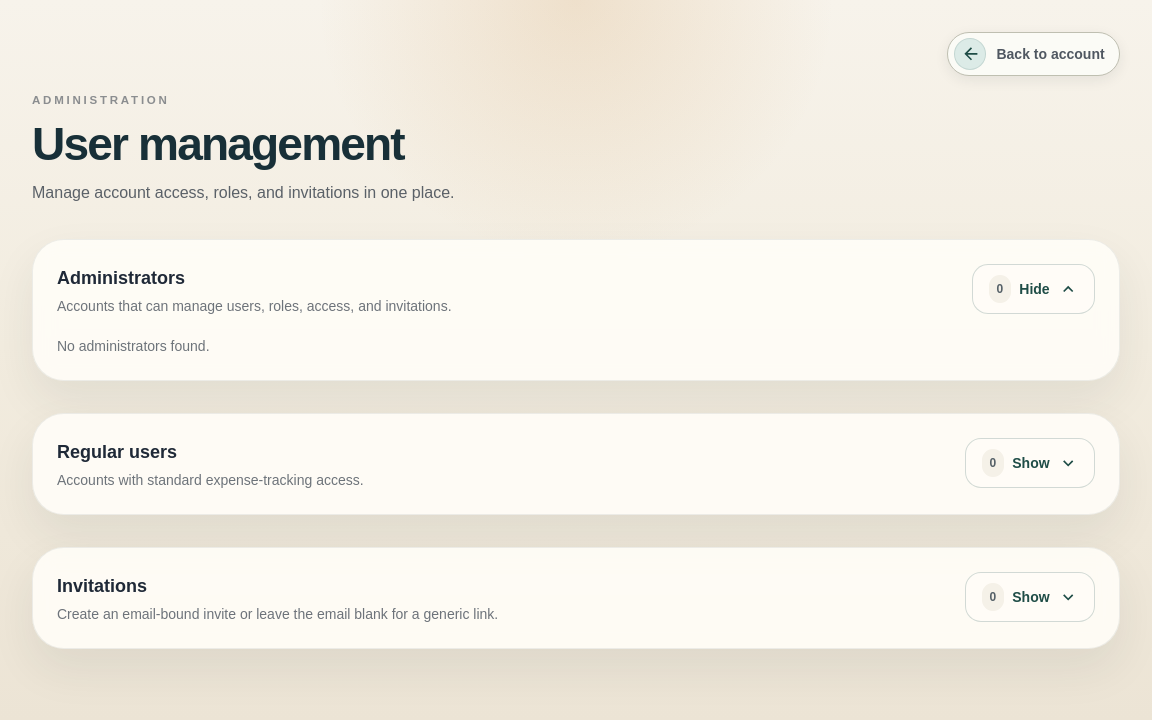
Test case: AdminUsers › renders empty states for null management collections
Expected: the text "No administrators found." is shown, [57, 338, 210, 354]
Click the button with aria-label "Show Regular users section". click: (1030, 463)
box: [965, 438, 1095, 488]
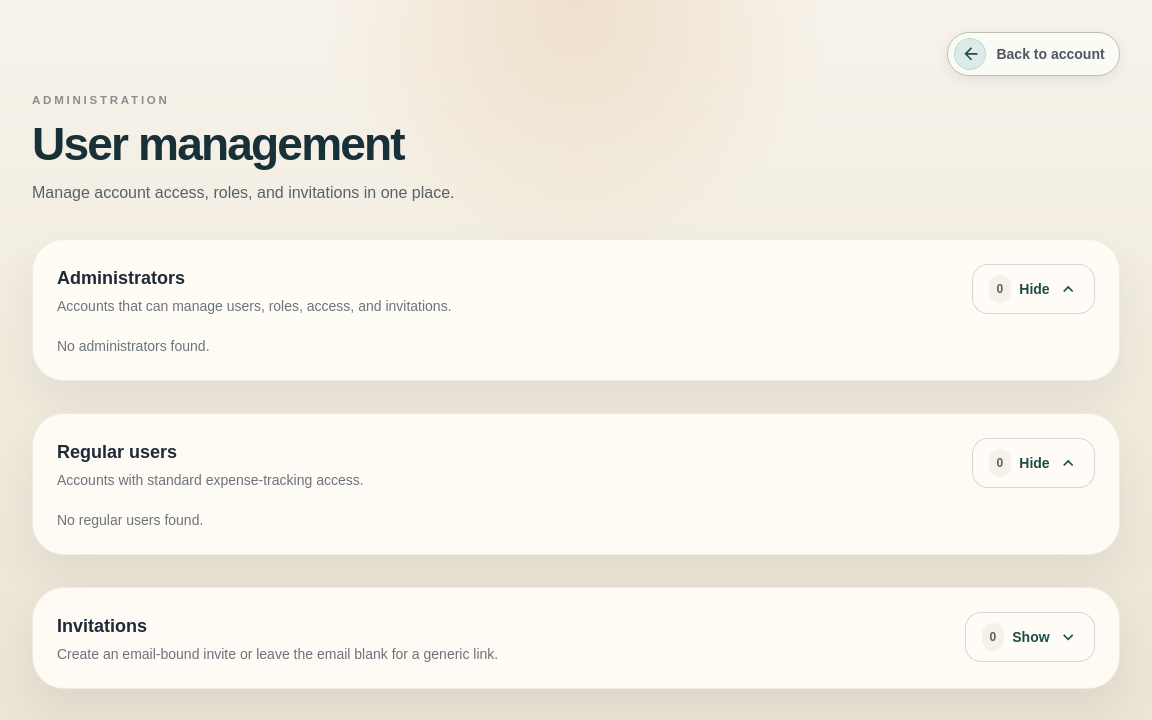
Click the button "0 Show". click: (1030, 637)
box: [965, 612, 1095, 662]
(page scrolled)
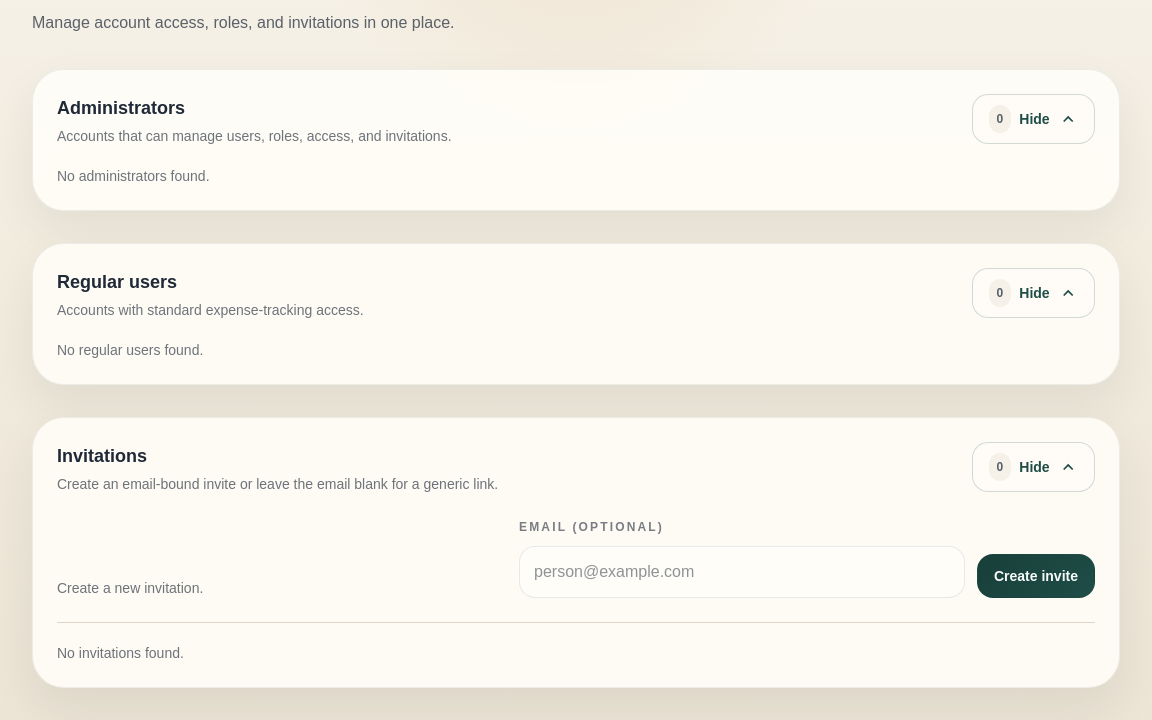
Expected: the text "No regular users found." is shown, [57, 342, 203, 358]
Expected: the text "No invitations found." is shown, [57, 644, 184, 660]
